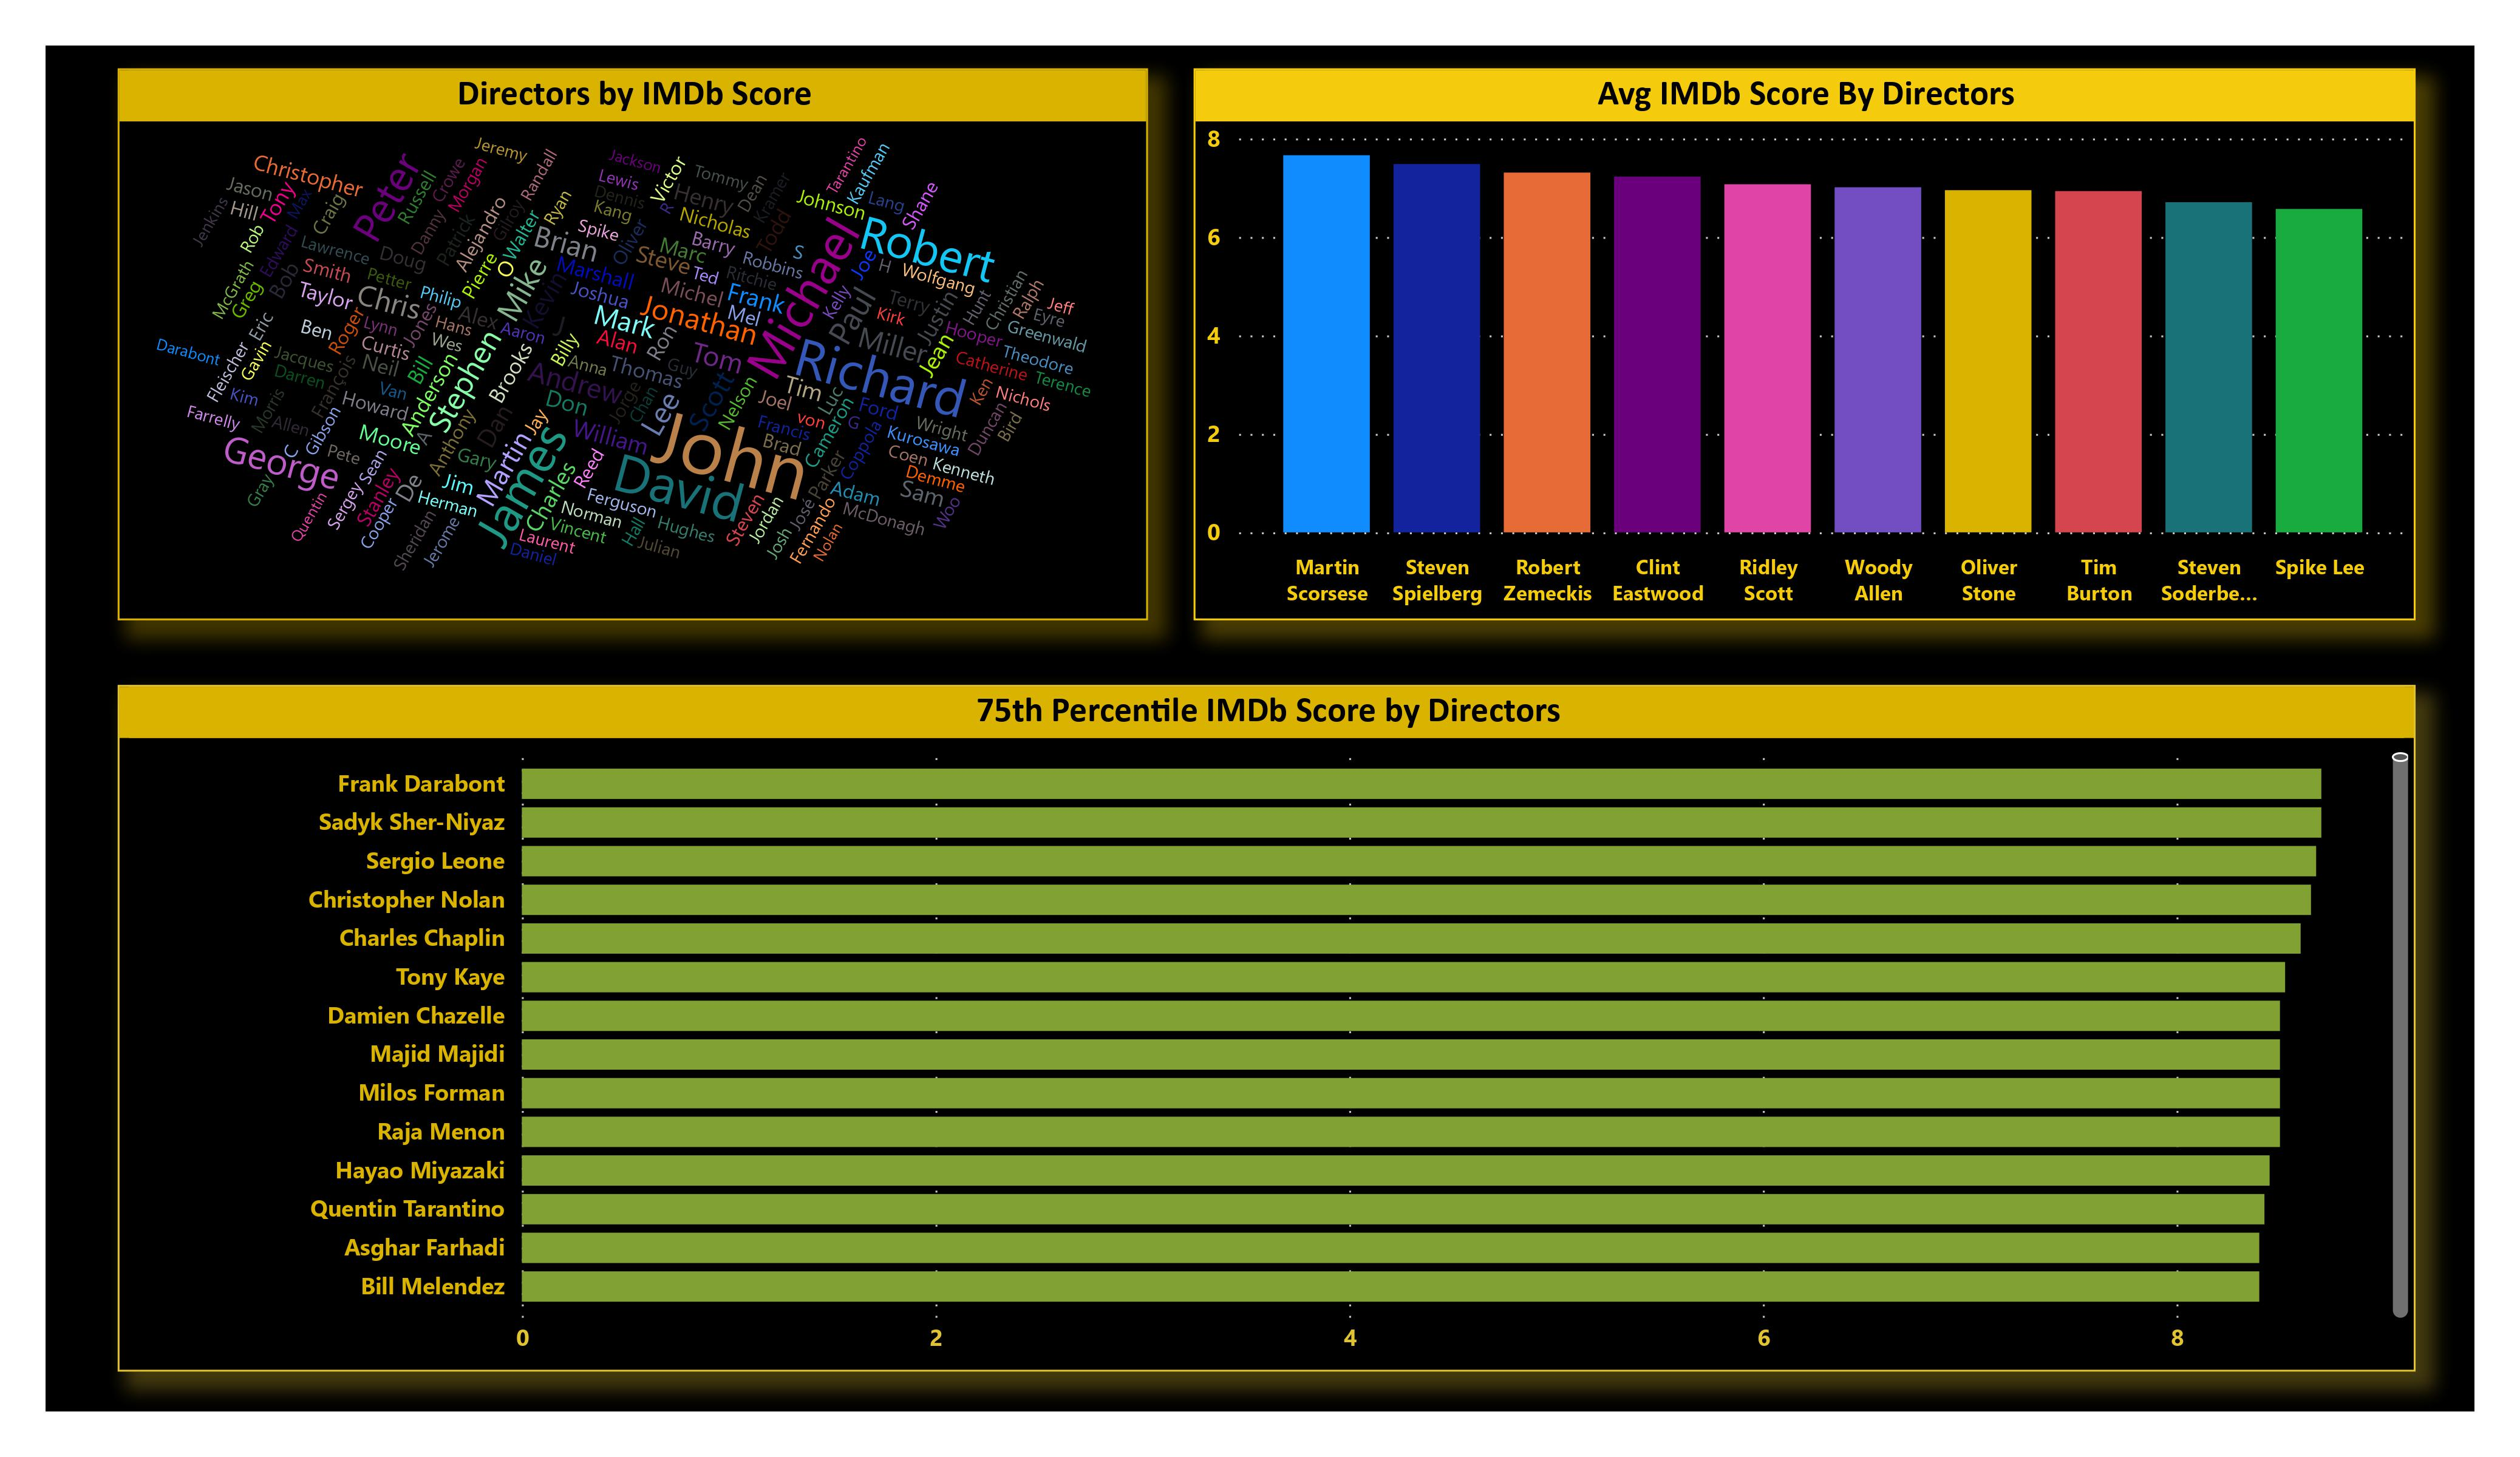

What the dashboard file says about the page in this screenshot:
{"tool":"powerbi","page":{"name":"Page 5","canvas":[1280,720],"ordinal":4},"visuals":[{"type":"lineStackedColumnComboChart","title":"Avg IMDb Score By Directors","fields":{"Category":["imdb_cleaned.director_name"],"Y":["Avg(imdb_cleaned.imdb_score)"],"Series":["imdb_cleaned.director_name"]},"box":[604.6,12.3,644.4,290.7],"z":1},{"type":"WordCloud1447959067750","title":"Directors by IMDb Score","fields":{"Values":["Max(imdb_cleaned.imdb_score)"],"Category":["imdb_cleaned.director_name"]},"box":[38.4,12.3,542.9,290.7],"z":3},{"type":"clusteredBarChart","title":"75th Percentile IMDb Score by Directors","fields":{"Category":["imdb_cleaned.director_name"],"Y":["imdb_cleaned.75th Percentile IMDb Score"]},"box":[38.4,337.3,1210.6,362],"z":4}]}

Visuals, with their boxes on the page's 1280x720 design canvas (x1, y1, x2, y2). These are canvas units, not pixel positions in the 2520x1457 screenshot, which may show the page scaled, cropped or inside an application window:
"Avg IMDb Score By Directors" lineStackedColumnComboChart: pyautogui.locateOnScreen(605, 12, 1249, 303)
"Directors by IMDb Score" WordCloud1447959067750: pyautogui.locateOnScreen(38, 12, 581, 303)
"75th Percentile IMDb Score by Directors" clusteredBarChart: pyautogui.locateOnScreen(38, 337, 1249, 699)
